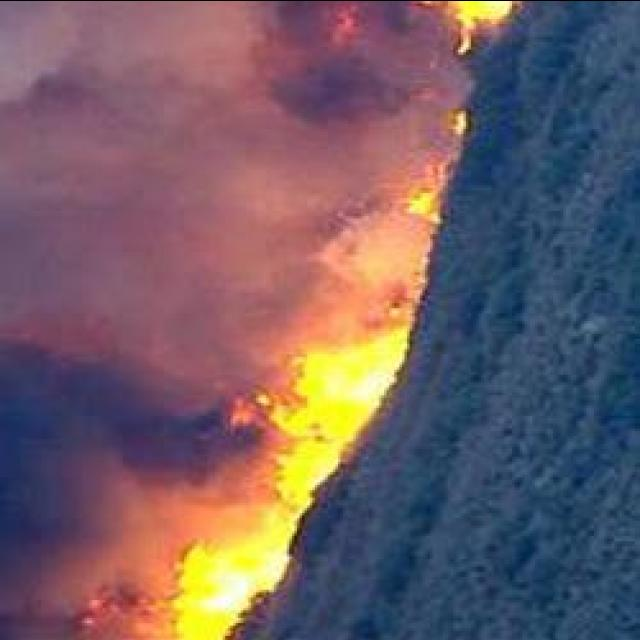fire: (175, 550, 253, 636), (299, 352, 383, 429)
smoke: (13, 122, 283, 354), (6, 443, 176, 640), (0, 0, 282, 108), (254, 0, 410, 117), (311, 210, 426, 284)
